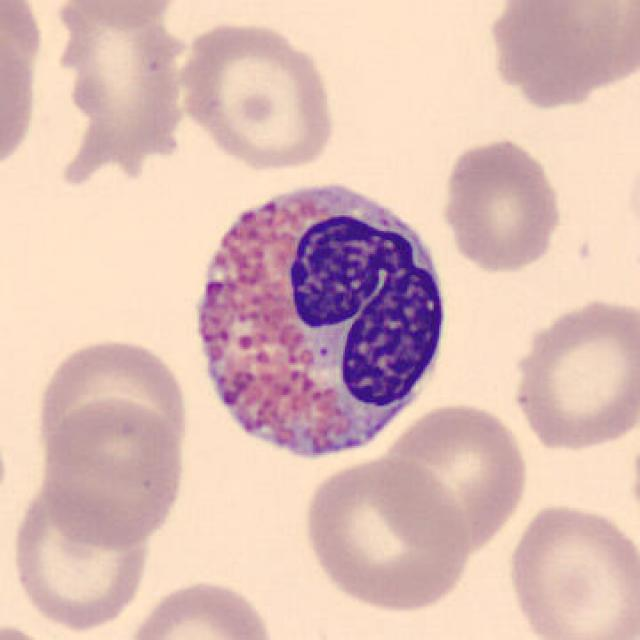Eosinophil: (178, 162, 460, 483)
RBC: (297, 452, 475, 616), (172, 16, 340, 174), (36, 391, 190, 552), (56, 5, 190, 187), (375, 398, 532, 552), (30, 333, 194, 474), (7, 485, 155, 633), (507, 293, 638, 455), (502, 499, 638, 640), (438, 134, 566, 275), (480, 0, 638, 109), (122, 575, 282, 640), (0, 0, 44, 183), (52, 0, 194, 32), (0, 619, 43, 640)
